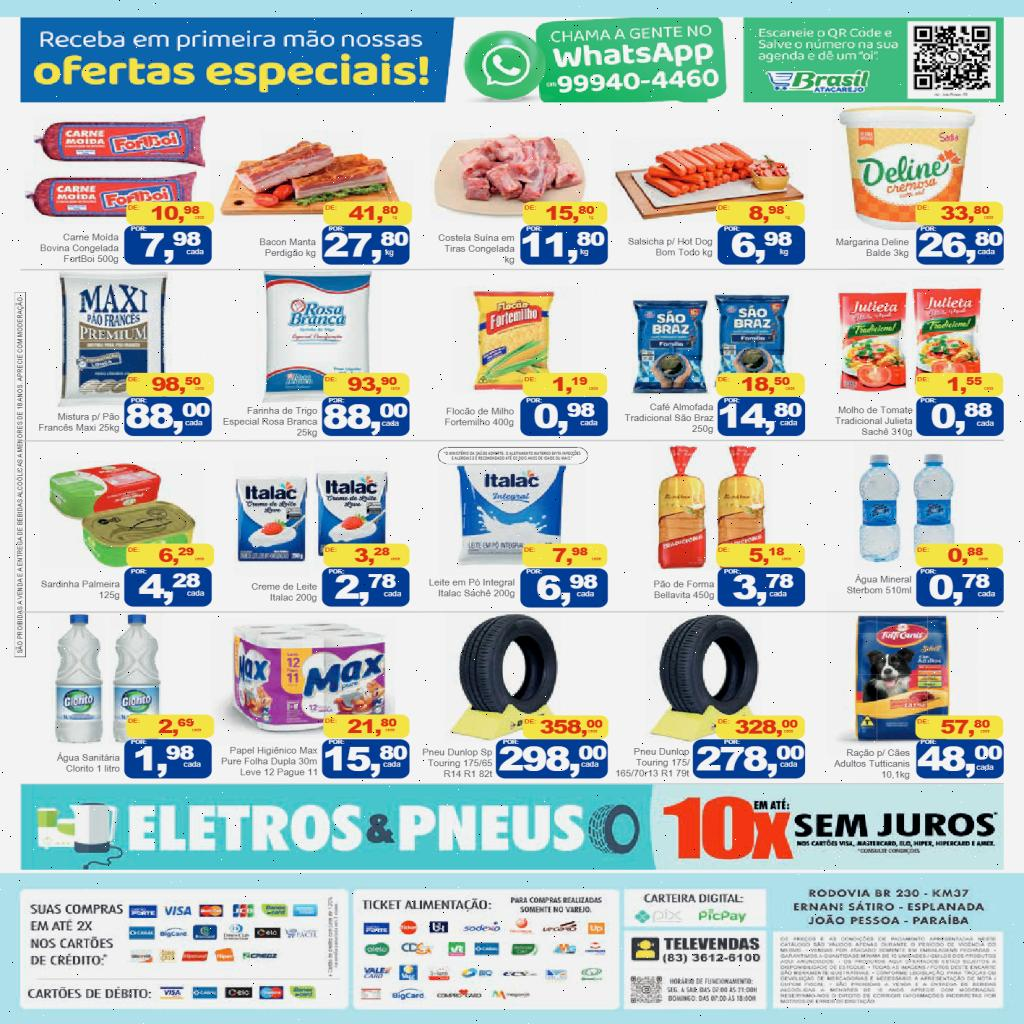price: (498, 744, 608, 778), (696, 744, 804, 778), (521, 230, 608, 264), (323, 231, 409, 265), (124, 402, 210, 436), (717, 402, 803, 436), (916, 745, 1002, 779), (325, 744, 408, 778), (918, 232, 1004, 264), (324, 403, 408, 435), (532, 401, 604, 437), (136, 572, 208, 606), (927, 573, 999, 606), (132, 744, 206, 776), (929, 402, 998, 436), (138, 230, 206, 264), (334, 572, 402, 606), (730, 230, 796, 264), (536, 574, 602, 606), (733, 572, 796, 604)
product_text: (218, 742, 319, 781), (220, 404, 320, 438), (624, 400, 716, 436), (34, 228, 120, 266), (831, 402, 914, 439), (614, 744, 690, 782), (833, 746, 913, 780), (437, 232, 513, 266), (420, 746, 493, 780), (427, 576, 518, 601), (624, 235, 714, 260), (40, 577, 122, 603), (34, 410, 122, 434), (440, 404, 515, 431), (834, 235, 912, 260), (650, 578, 716, 606), (249, 580, 319, 606), (843, 571, 913, 597), (54, 750, 120, 776), (256, 236, 318, 260)
